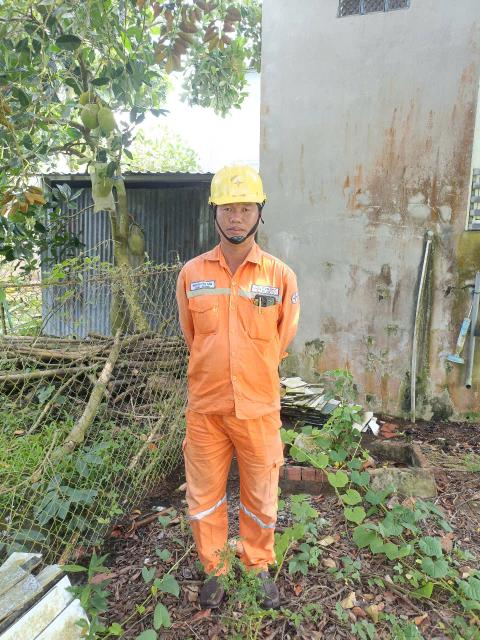helmet: (203, 158, 279, 218)
shoes: (244, 562, 284, 613), (193, 565, 228, 612)
